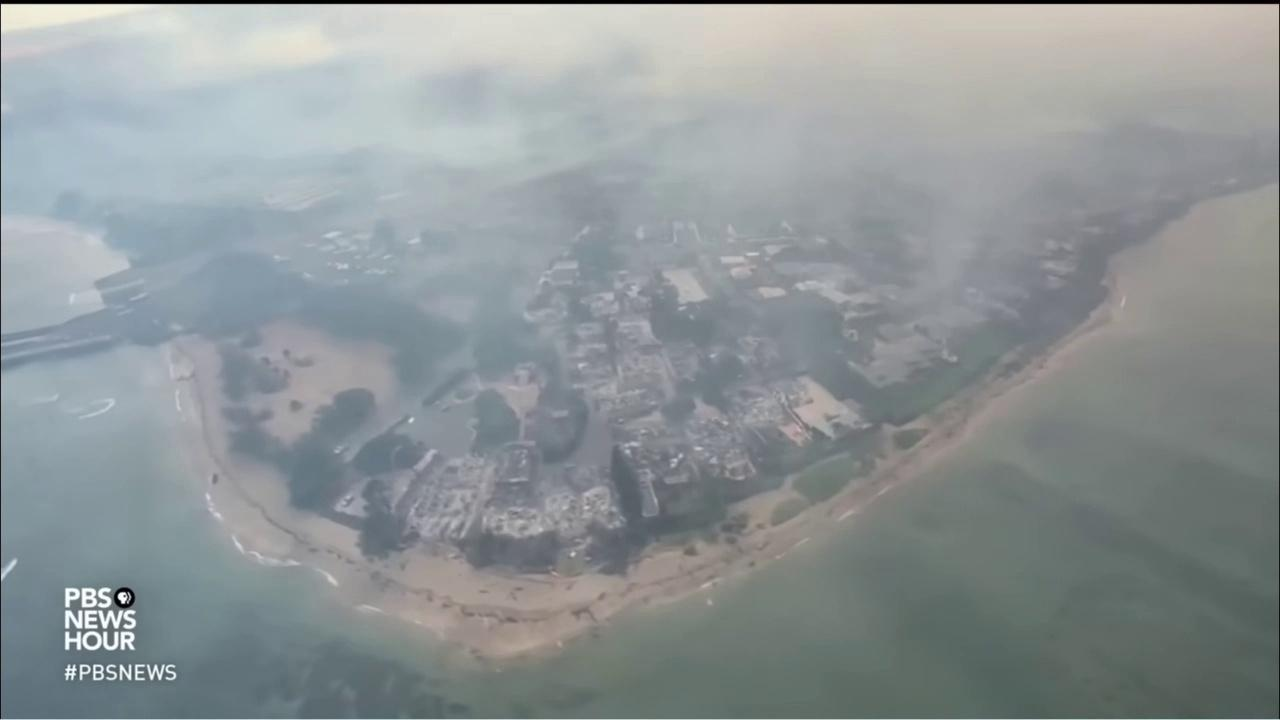smoke: (1, 3, 1280, 402)
